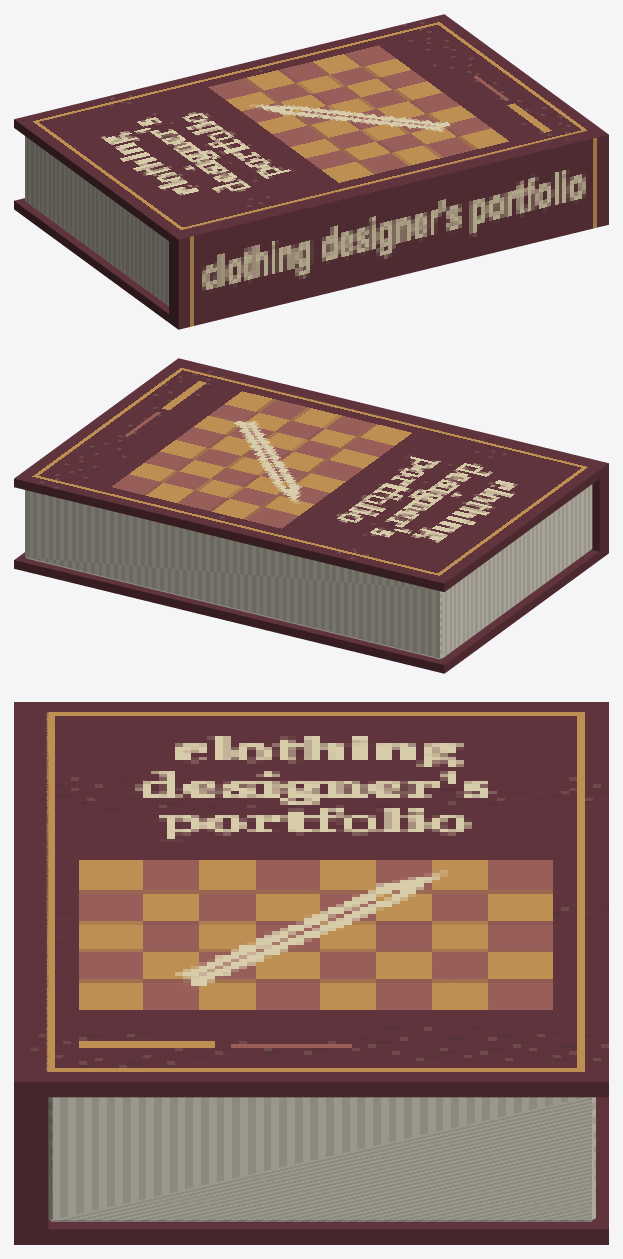
Rendered from tailor_portfolio.glb.
The picture shows the model from 3 angles, top to bottom: view 1: azimuth 30°, elevation 25°; view 2: azimuth 150°, elevation 25°; view 3: azimuth 270°, elevation 25°; orthographic projection. The views are drawn at different scales.
Parts seen in each view (by area): view 1: block_front, block_spine, block_pages, block_back; view 2: block_front, block_pages, block_back, block_spine; view 3: block_front, block_pages, block_spine, block_back.
Boxes of the visible parts, x1,y1,x2,y2 form: block_front: (14, 14, 606, 245); block_spine: (169, 127, 608, 329); block_pages: (25, 136, 168, 305); block_back: (14, 198, 175, 327); block_front: (14, 360, 606, 592); block_pages: (25, 484, 592, 659); block_back: (14, 547, 606, 673); block_spine: (173, 358, 608, 554); block_front: (22, 702, 608, 1097); block_pages: (48, 1097, 595, 1221); block_spine: (14, 702, 48, 1244); block_back: (22, 1097, 608, 1244).
Size of the model in its own units: 0.3112 by 0.0622 by 0.206.
1 material, 1 textured.
